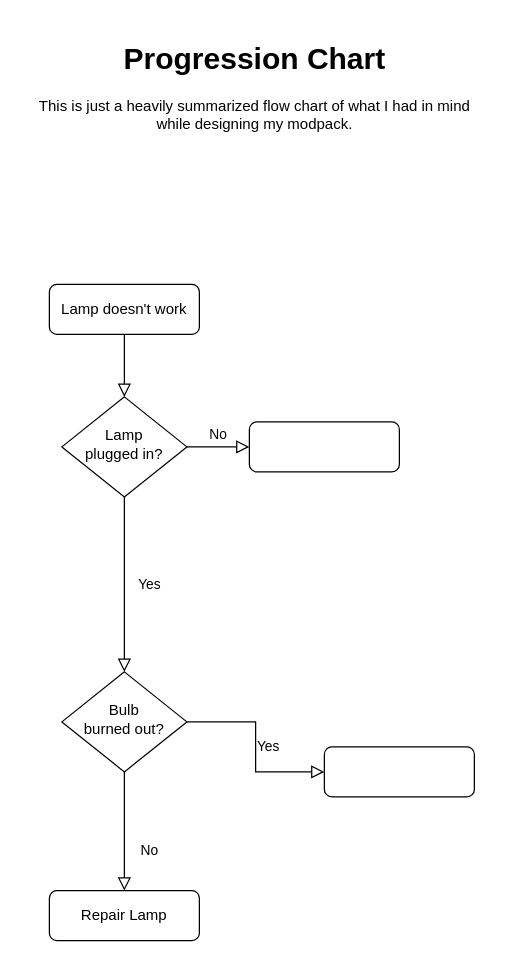
The diagram is 506 pixels wide and 963 high, and some of its shapes have lost their labels. Here are the shapes that lost their labels. From the top down, the centre of each, then its label:
At point 323,446: "Plug in lamp".
At point 398,771: "Replace Bulb".
